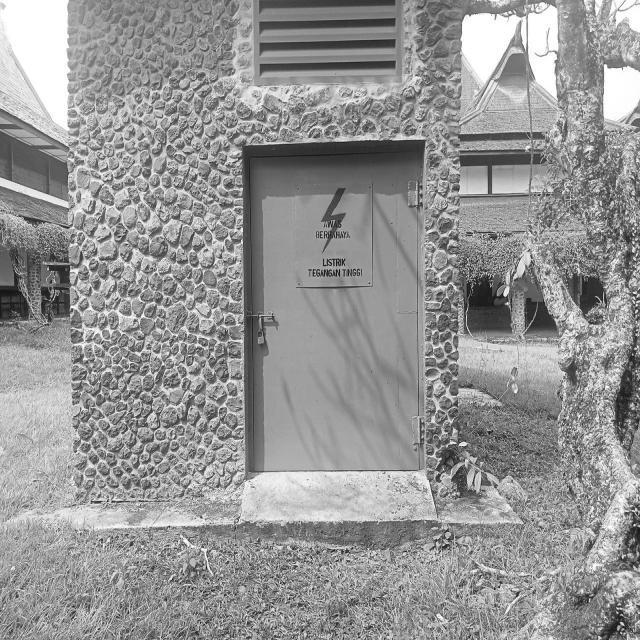door: (245, 147, 426, 476)
